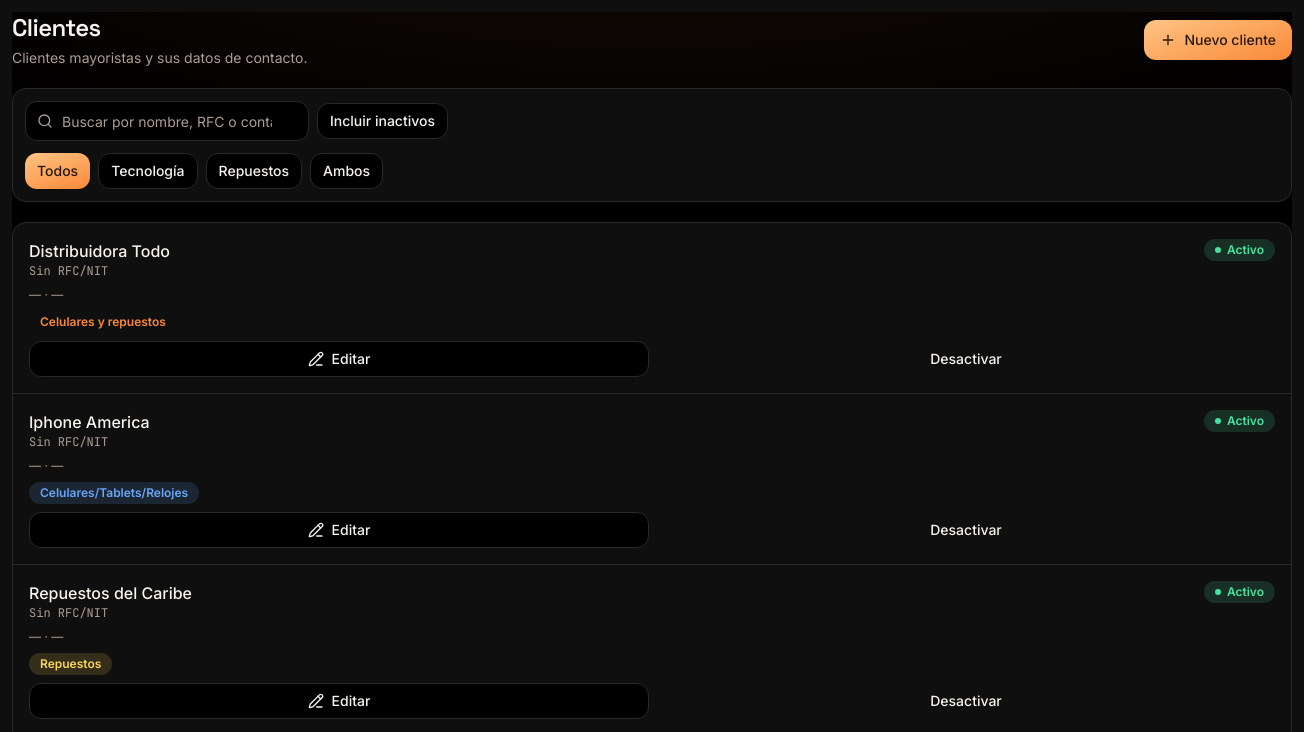
Clientes · categoría › el filtro 'Repuestos' deja solo repuestos y a quien vende de todo
The image size is (1304, 732).
Step 1. Click the button "Repuestos" → (254, 171), box [206, 153, 302, 189]
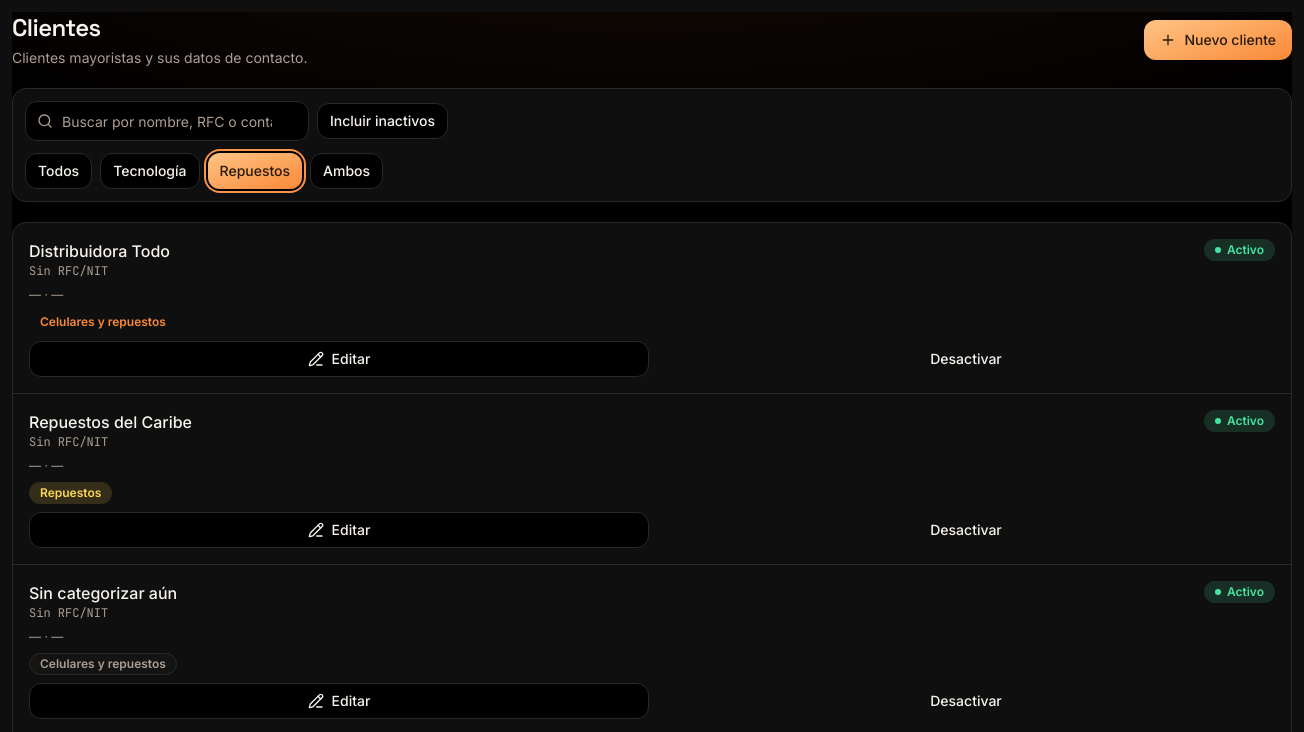
Check: the text "Iphone America" is gone
